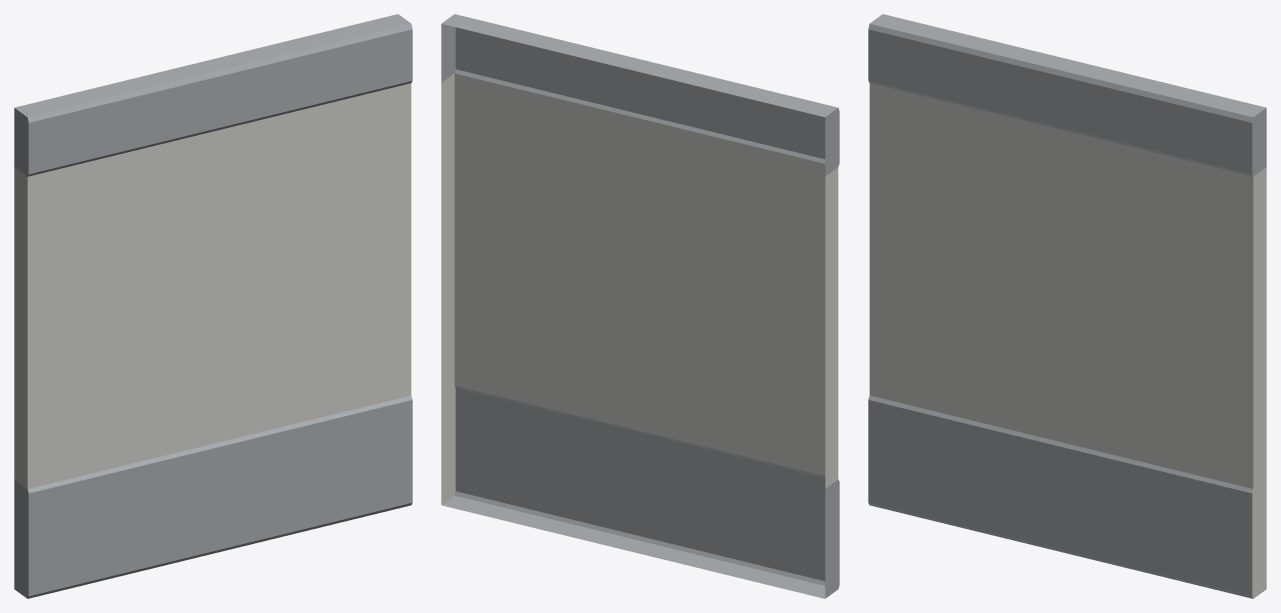
The model's file is Wall_01.FBX.
3 renders of one model, left to right at view 1: azimuth 30°, elevation 25°; view 2: azimuth 150°, elevation 25°; view 3: azimuth 330°, elevation 25°, orthographic.
Visible parts, largest first — view 1: Wall_01; view 2: Wall_01; view 3: Wall_01.
Part boxes in pixels (bbox=[...]): Wall_01: bbox=[14, 14, 412, 598]; Wall_01: bbox=[441, 14, 839, 598]; Wall_01: bbox=[868, 14, 1266, 598].
Bounding box in the file's own units: 250 × 300 × 16.36.
